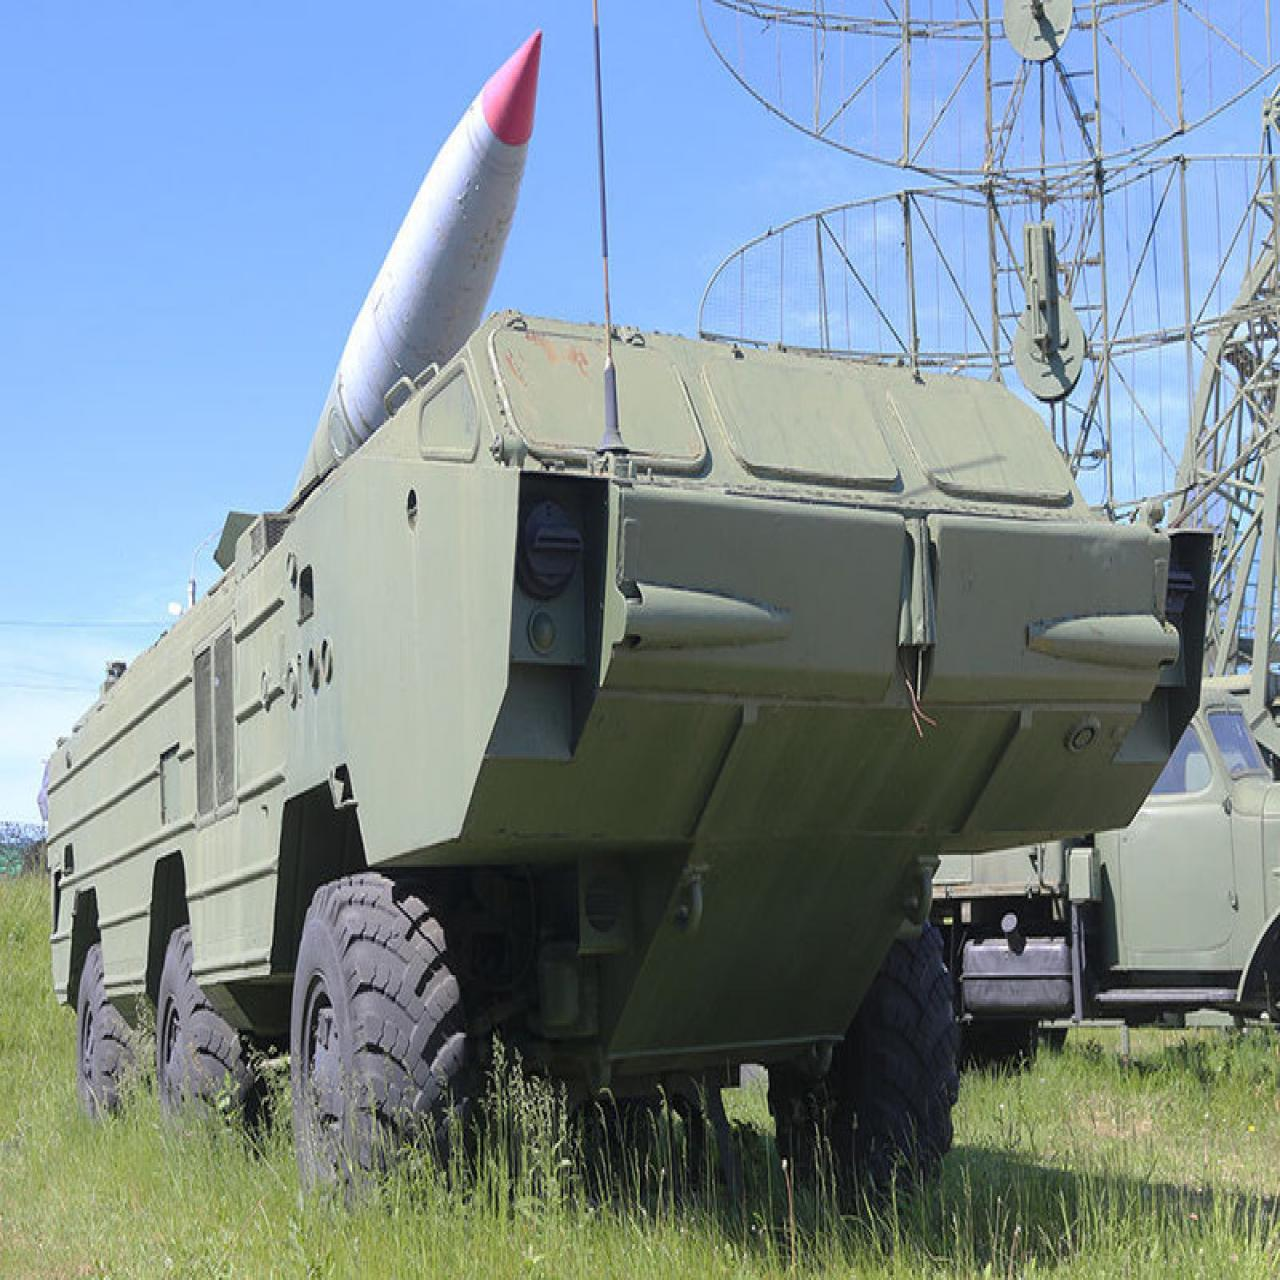MIL_Veh: (36, 29, 1194, 1171)
